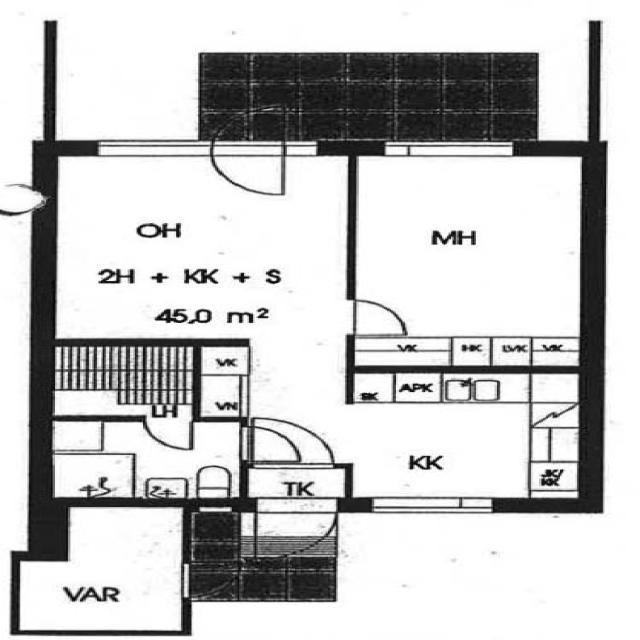door: (206, 132, 294, 198), (238, 416, 336, 468), (242, 514, 338, 564), (340, 294, 416, 341), (138, 413, 201, 453)
window: (376, 134, 523, 166), (82, 132, 216, 165), (360, 493, 502, 517), (29, 0, 74, 29)
zone: (50, 150, 359, 346), (348, 146, 593, 360), (330, 370, 588, 504), (15, 501, 188, 633), (41, 418, 247, 502), (39, 342, 196, 420), (193, 341, 254, 420)
